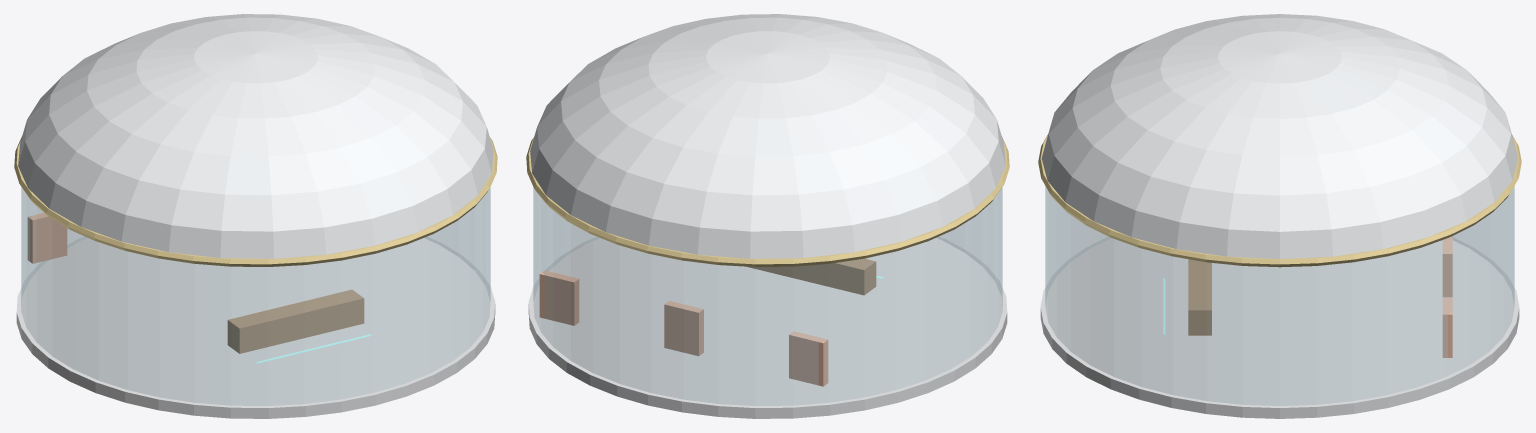
The model's file is reef-int-shop.glb.
The picture shows the model from 3 angles, left to right: view 1: azimuth 30°, elevation 25°; view 2: azimuth 150°, elevation 25°; view 3: azimuth 270°, elevation 25°; orthographic projection.
Visible parts, largest first — view 1: Sphere.063, Cylinder.115, Cylinder.114, Cube.204, Torus.273, Cube.205; view 2: Sphere.063, Cylinder.115, Cylinder.114, Cube.205, Torus.273, Cube.204; view 3: Sphere.063, Cylinder.115, Cylinder.114, Torus.273, Cube.204, Cube.205.
Part boxes in pixels (x1=…): Sphere.063: x1=18, y1=14, x2=493, y2=258; Cylinder.115: x1=21, y1=187, x2=490, y2=405; Cylinder.114: x1=16, y1=236, x2=495, y2=418; Cube.204: x1=227, y1=289, x2=364, y2=353; Torus.273: x1=14, y1=137, x2=497, y2=266; Cube.205: x1=27, y1=213, x2=67, y2=263; Sphere.063: x1=530, y1=14, x2=1005, y2=258; Cylinder.115: x1=533, y1=187, x2=1002, y2=405; Cylinder.114: x1=528, y1=236, x2=1007, y2=418; Cube.205: x1=539, y1=270, x2=828, y2=386; Torus.273: x1=526, y1=137, x2=1009, y2=266; Cube.204: x1=747, y1=258, x2=876, y2=295; Sphere.063: x1=1041, y1=14, x2=1518, y2=259; Cylinder.115: x1=1045, y1=186, x2=1514, y2=405; Cylinder.114: x1=1040, y1=236, x2=1519, y2=418; Torus.273: x1=1038, y1=135, x2=1521, y2=267; Cube.204: x1=1188, y1=259, x2=1211, y2=335; Cube.205: x1=1442, y1=236, x2=1452, y2=357.
Bounding box in the file's own units: 12.12 × 7.3 × 12.12.
